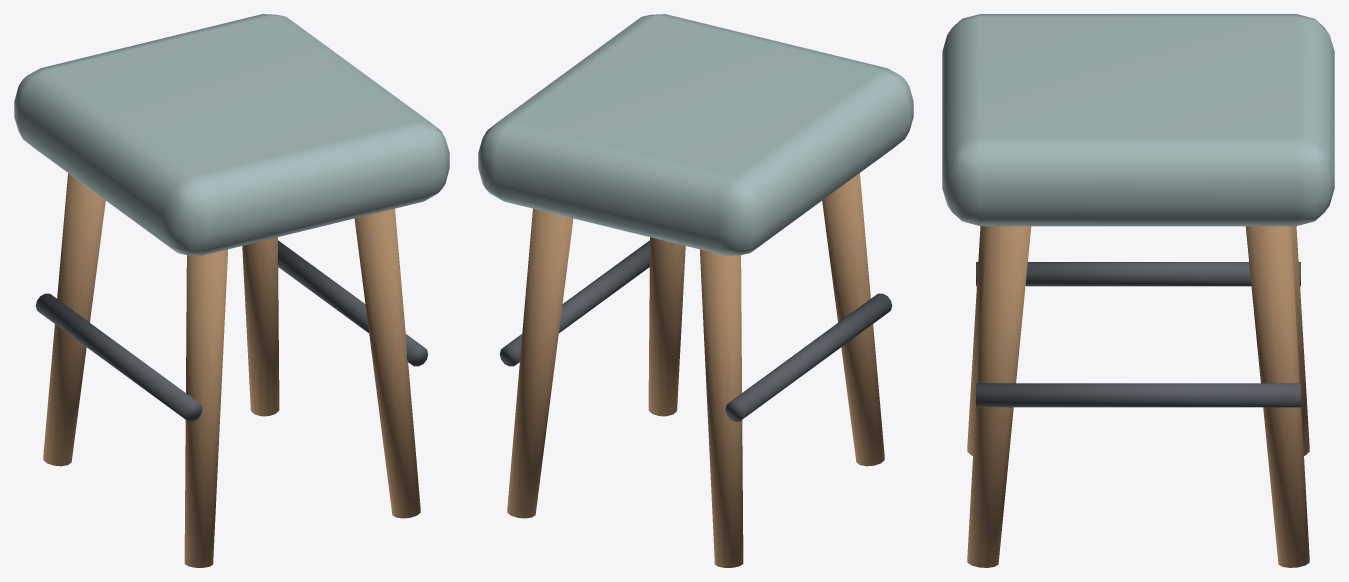
The model's file is atelier-counter-stool.glb.
3 renders of one model, left to right at view 1: azimuth 30°, elevation 25°; view 2: azimuth 150°, elevation 25°; view 3: azimuth 270°, elevation 25°, orthographic. The views are drawn at different scales.
Visible parts, largest first — view 1: fabric.016, legs.014, metal.004; view 2: fabric.016, legs.014, metal.004; view 3: fabric.016, legs.014, metal.004.
Part boxes in pixels (<box>): fabric.016: <box>14,14,449,255</box>; legs.014: <box>43,173,420,567</box>; metal.004: <box>35,240,428,421</box>; fabric.016: <box>478,14,913,255</box>; legs.014: <box>507,173,884,567</box>; metal.004: <box>499,240,892,421</box>; fabric.016: <box>942,14,1334,226</box>; legs.014: <box>967,226,1309,567</box>; metal.004: <box>976,262,1300,407</box>.
Size of the model in its own units: 0.53 by 0.7024 by 0.58.
